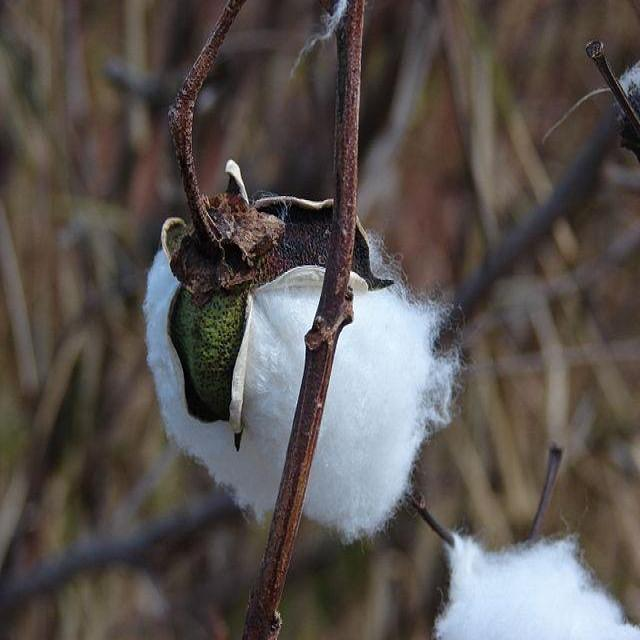Late_blight: (145, 188, 446, 534)
